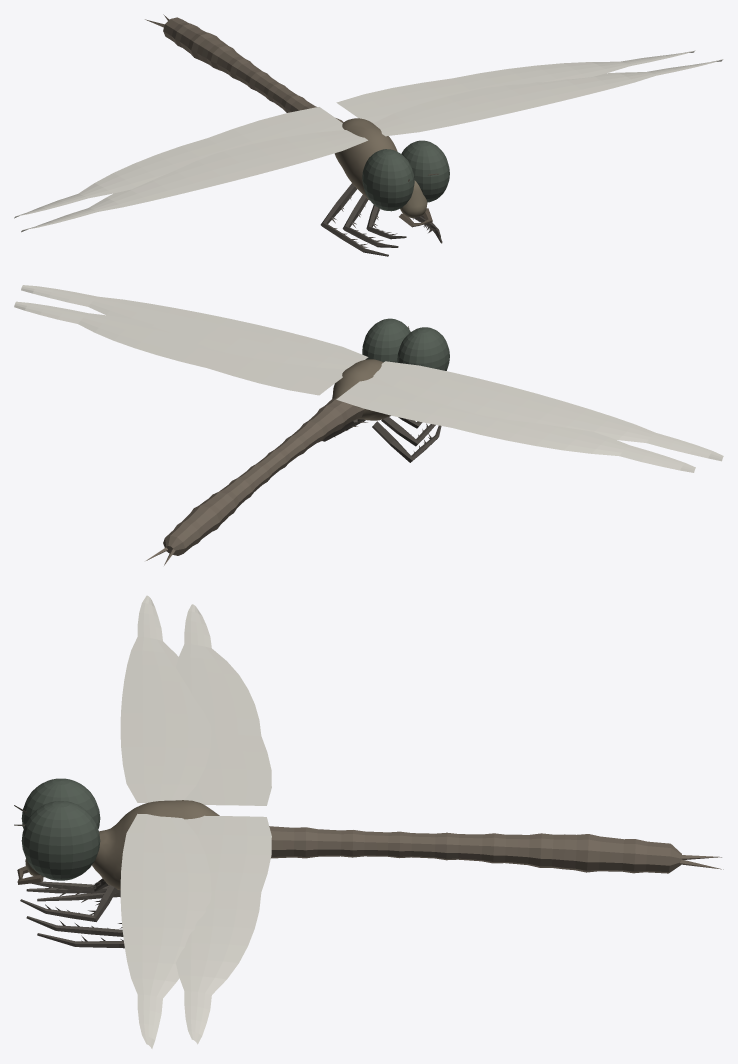
Rendered from griffinfly.glb.
3 renders of one model, top to bottom at view 1: azimuth 30°, elevation 25°; view 2: azimuth 150°, elevation 25°; view 3: azimuth 270°, elevation 25°, orthographic. The views are drawn at different scales.
Parts seen in each view (by area): view 1: griffinfly; view 2: griffinfly; view 3: griffinfly.
Boxes of the visible parts, x1,y1,x2,y2 form: griffinfly: (14, 14, 723, 256); griffinfly: (14, 285, 723, 565); griffinfly: (14, 595, 723, 1048).
Size of the model in its own units: 1 by 0.1367 by 0.6683.
